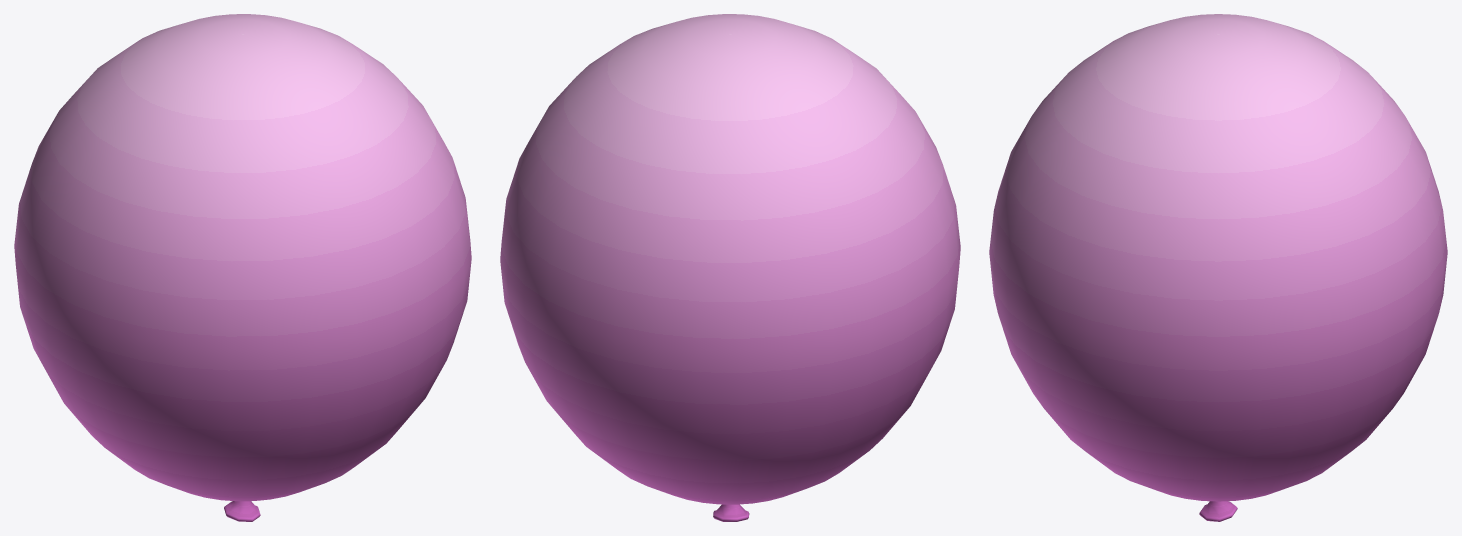
Rendered from balloon_pink.fbx.
3 renders of one model, left to right at view 1: azimuth 30°, elevation 25°; view 2: azimuth 150°, elevation 25°; view 3: azimuth 270°, elevation 25°, orthographic.
Visible parts, largest first — view 1: balloon_pink, balloon_pink_t; view 2: balloon_pink, balloon_pink_t; view 3: balloon_pink, balloon_pink_t.
Boxes of the visible parts, left/top/right/bottom form: balloon_pink: left=14, top=14, right=471, bottom=501; balloon_pink_t: left=224, top=501, right=260, bottom=521; balloon_pink: left=500, top=14, right=960, bottom=504; balloon_pink_t: left=713, top=504, right=749, bottom=521; balloon_pink: left=989, top=14, right=1447, bottom=501; balloon_pink_t: left=1199, top=501, right=1237, bottom=521.
Size of the model in its own units: 64.65 by 74.87 by 64.65.
